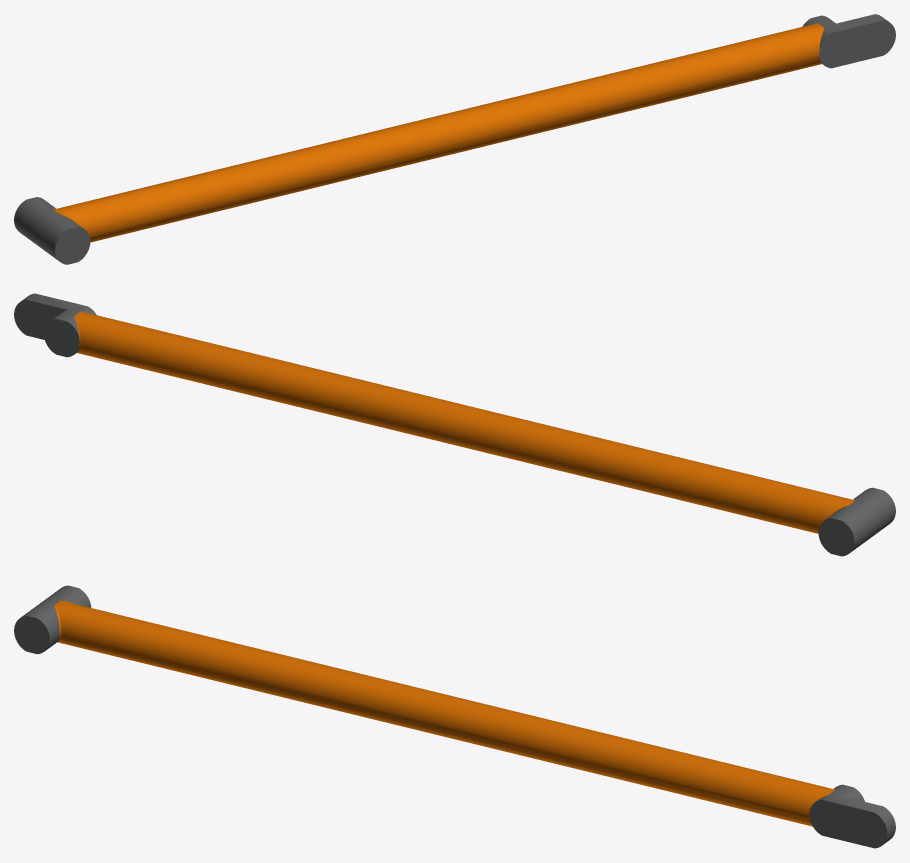
3 renders of one model, top to bottom at view 1: azimuth 30°, elevation 25°; view 2: azimuth 150°, elevation 25°; view 3: azimuth 330°, elevation 25°, orthographic.
Parts seen in each view (by area): view 1: e4_LOD0, e4_col; view 2: e4_LOD0, e4_col; view 3: e4_LOD0, e4_col.
Boxes of the visible parts, x1=… form: e4_LOD0: x1=14, y1=14, x2=895, y2=264; e4_col: x1=32, y1=17, x2=895, y2=264; e4_LOD0: x1=14, y1=293, x2=895, y2=556; e4_col: x1=14, y1=294, x2=882, y2=555; e4_LOD0: x1=14, y1=585, x2=895, y2=848; e4_col: x1=14, y1=586, x2=885, y2=846.
Size of what is drawn, in the model's own units: 288 by 11.67 by 24.
